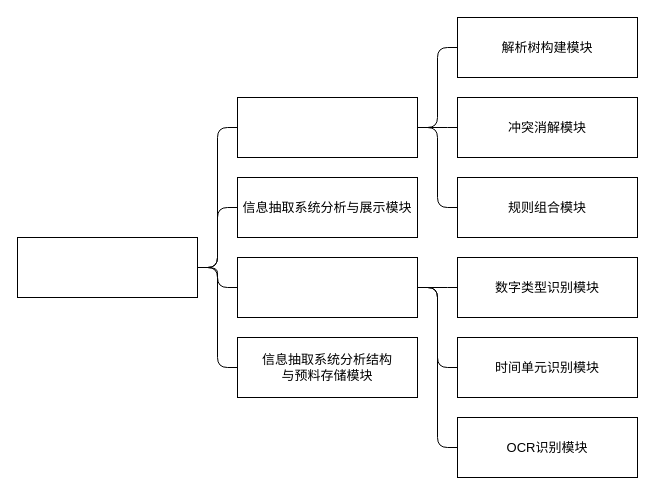
Image size: 655x495. Some labels were removed from this diagram. Each missing label, with the centre of its shape:
"中文时间表达式信息抽取系统" belongs at [107,267].
"中文时间表达式解析模块" belongs at [327,127].
"中文时间表达式识别模块" belongs at [327,287].
